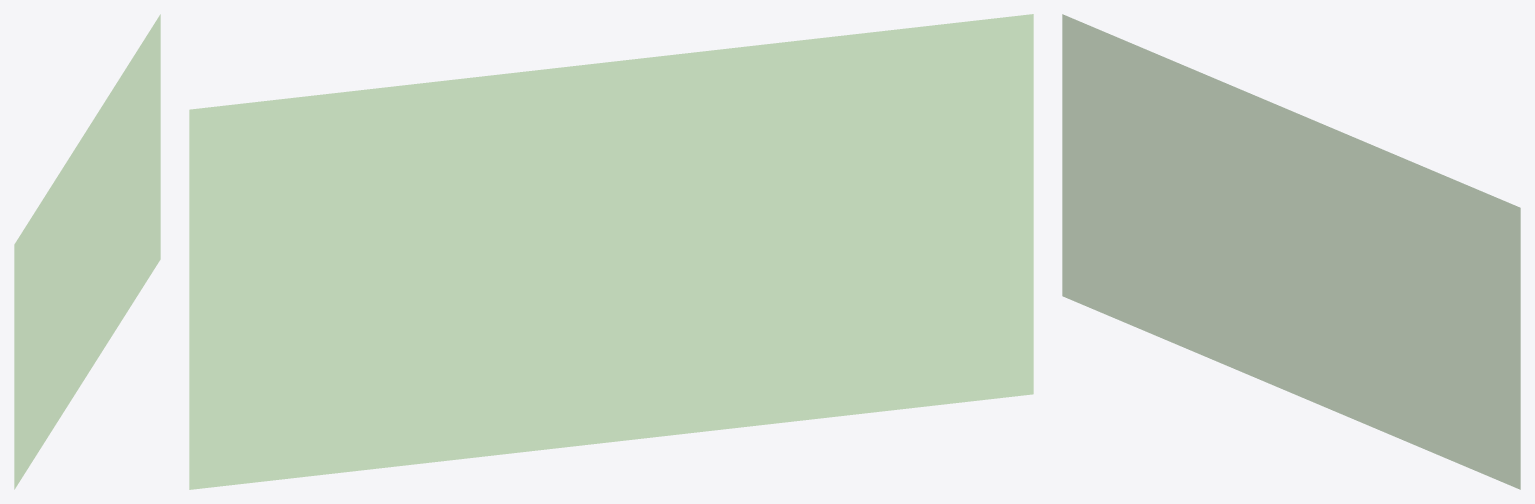
The model's file is 55_rebatimento_vertical.glb.
3 renders of one model, left to right at view 1: azimuth 30°, elevation 25°; view 2: azimuth 150°, elevation 25°; view 3: azimuth 270°, elevation 25°, orthographic. The views are drawn at different scales.
Size of the model in its own units: 8.84 by 6 by 8.84.
